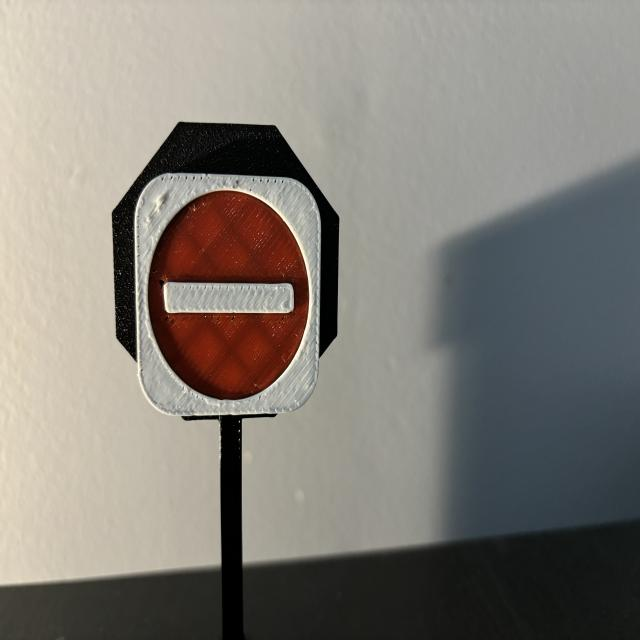sign_noentry: (136, 175, 322, 417)
